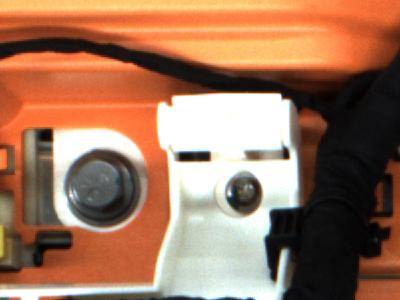nut_b: (63, 149, 144, 227)
